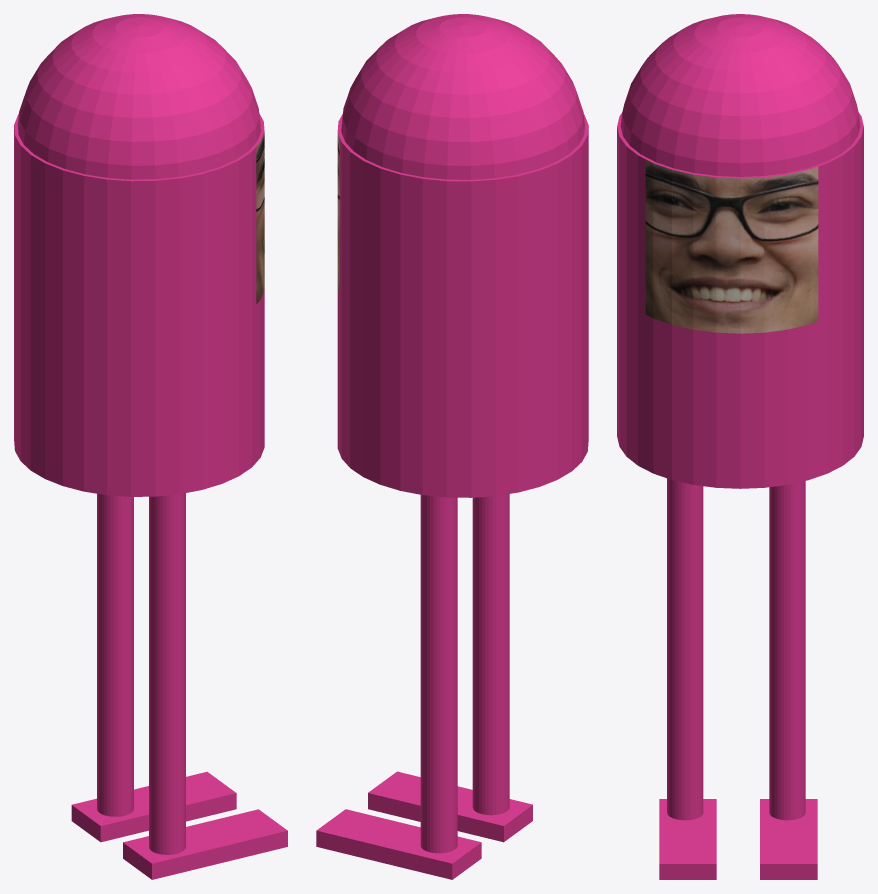
File: npc-c.fbx
3 views of the same model, side by side, from view 1: azimuth 30°, elevation 25°; view 2: azimuth 150°, elevation 25°; view 3: azimuth 270°, elevation 25° (orthographic).
Visible parts, largest first — view 1: NPC-C; view 2: NPC-C; view 3: NPC-C.
Boxes of the visible parts, left/top/right/bottom form: NPC-C: left=14, top=14, right=287, bottom=879; NPC-C: left=316, top=14, right=588, bottom=879; NPC-C: left=617, top=14, right=863, bottom=879.
Size of the model in its own units: 200 by 719 by 200.
2 materials, 1 textured.
